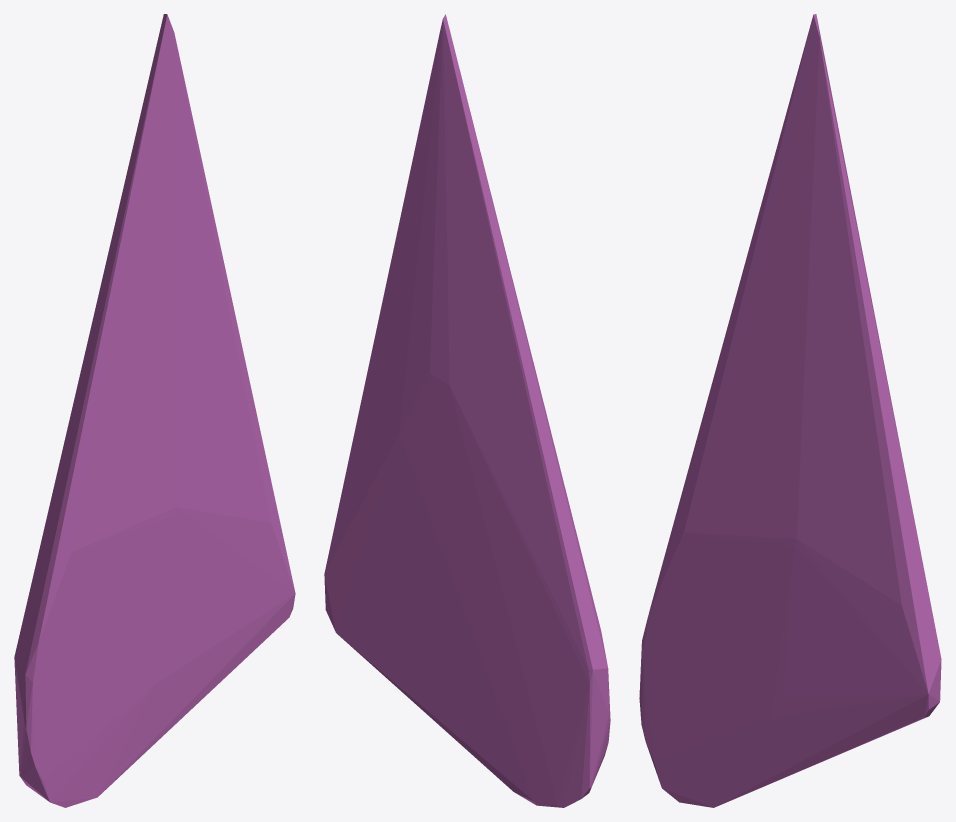
Rendered from utensils_scissors_c01.glb.
3 renders of one model, left to right at view 1: azimuth 30°, elevation 25°; view 2: azimuth 150°, elevation 25°; view 3: azimuth 330°, elevation 25°, orthographic. The views are drawn at different scales.
Parts seen in each view (by area): view 1: geometry_0; view 2: geometry_0; view 3: geometry_0.
Part boxes in pixels (x1,y1,x2,y2): geometry_0: (14,14,295,807); geometry_0: (324,14,610,807); geometry_0: (639,14,941,807).
Bounding box in the file's own units: 0.1789 × 0.4789 × 0.0229.
